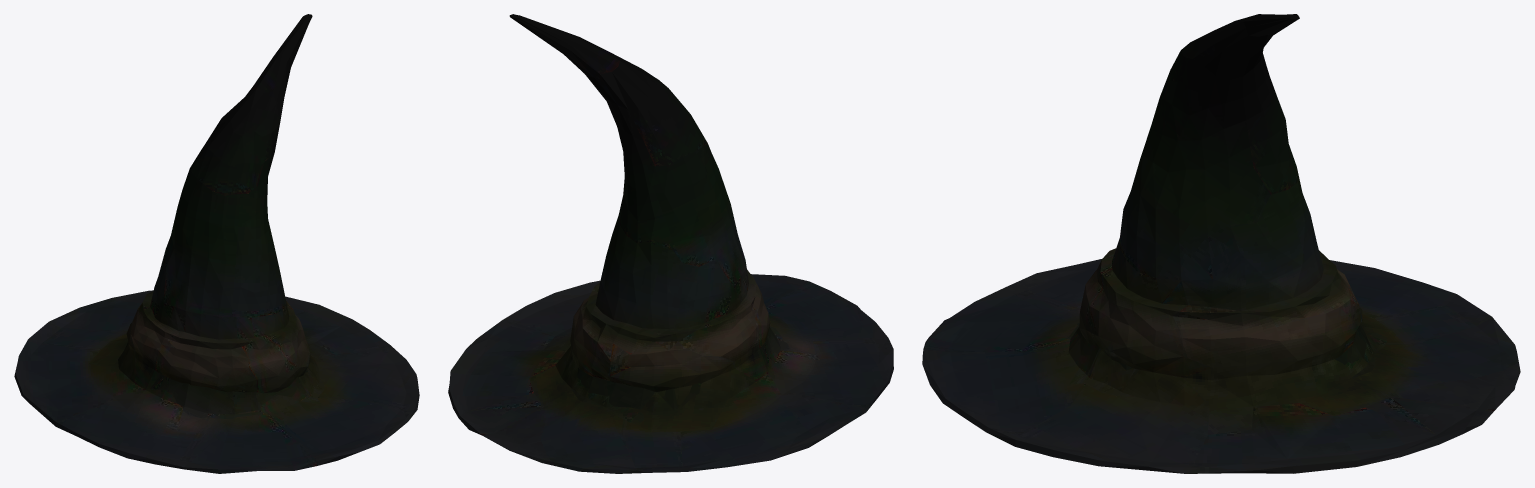
Rendered from ewm_t2wizard_hat.glb.
The picture shows the model from 3 angles, left to right: view 1: azimuth 30°, elevation 25°; view 2: azimuth 150°, elevation 25°; view 3: azimuth 270°, elevation 25°; orthographic projection. The views are drawn at different scales.
Visible parts, largest first — view 1: ewm_t2wizard_hat; view 2: ewm_t2wizard_hat; view 3: ewm_t2wizard_hat.
Part boxes in pixels (<box>): ewm_t2wizard_hat: <box>14,14,419,473</box>; ewm_t2wizard_hat: <box>448,14,893,473</box>; ewm_t2wizard_hat: <box>922,14,1520,473</box>.
Bounding box in the file's own units: 0.3858 × 0.355 × 0.4457.
1 material, 1 textured.
